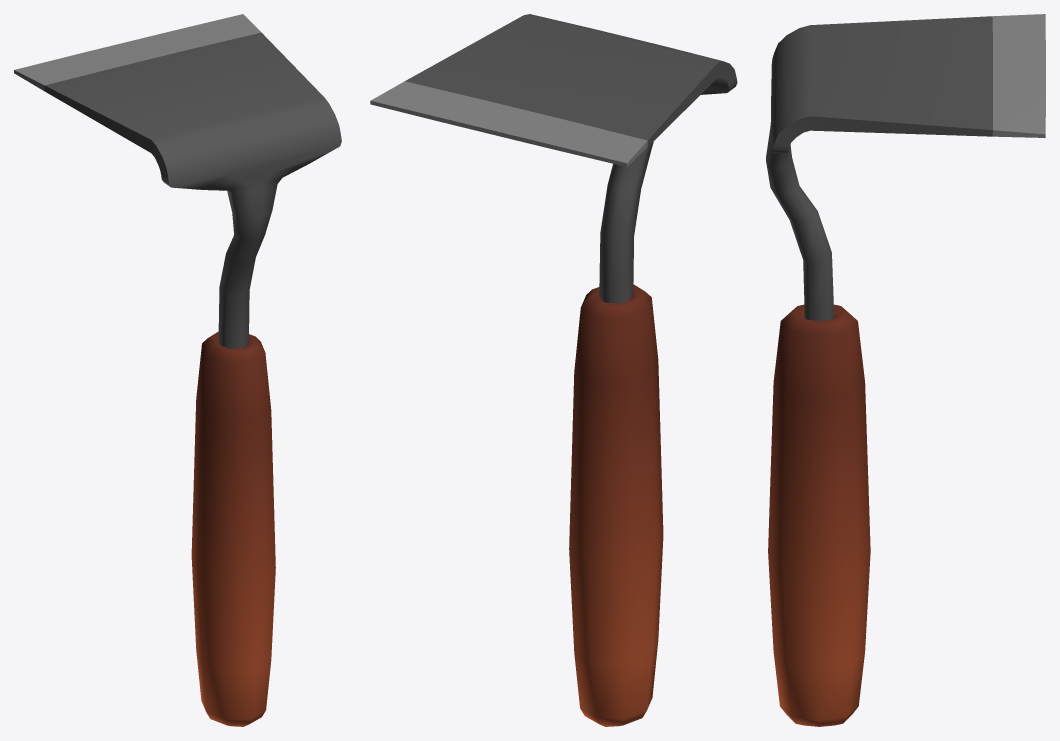
Rendered from toolsShovel_soil_003.fbx.
3 views of the same model, side by side, from view 1: azimuth 30°, elevation 25°; view 2: azimuth 150°, elevation 25°; view 3: azimuth 270°, elevation 25° (orthographic). The views are drawn at different scales.
Visible parts, largest first — view 1: Shovel soil.003; view 2: Shovel soil.003; view 3: Shovel soil.003.
Part boxes in pixels (<box>): Shovel soil.003: <box>14,14,341,726</box>; Shovel soil.003: <box>370,14,737,726</box>; Shovel soil.003: <box>766,14,1045,726</box>.
Size of the model in its own units: 56.71 by 143 by 55.72.
